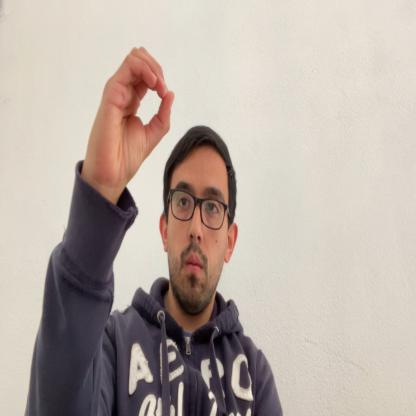O: (90, 42, 174, 184)
